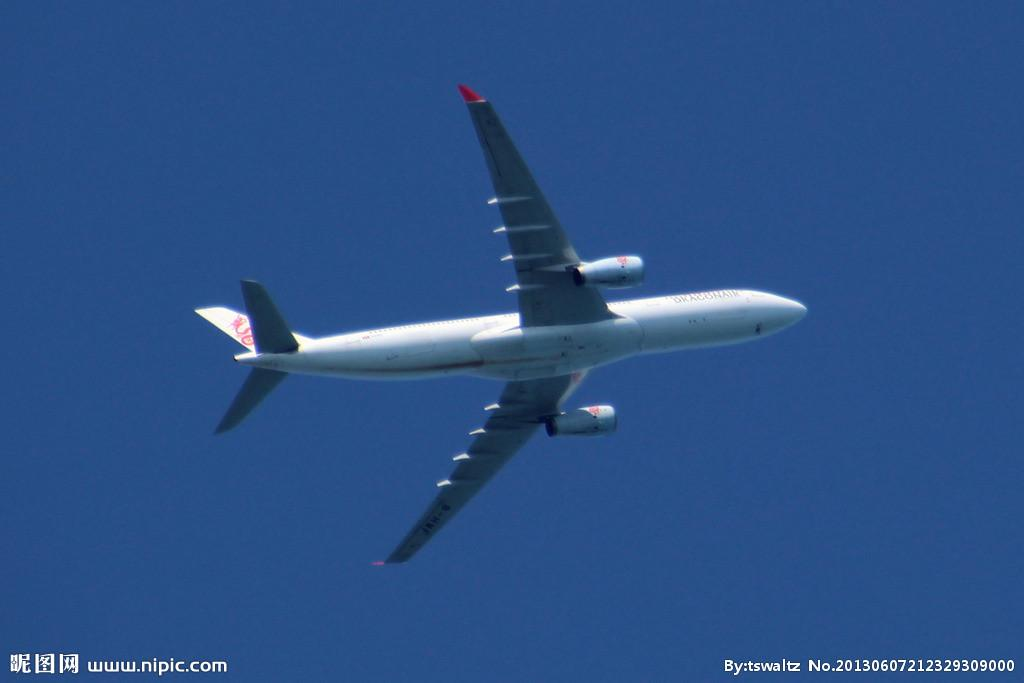airplane: (184, 78, 853, 570)
